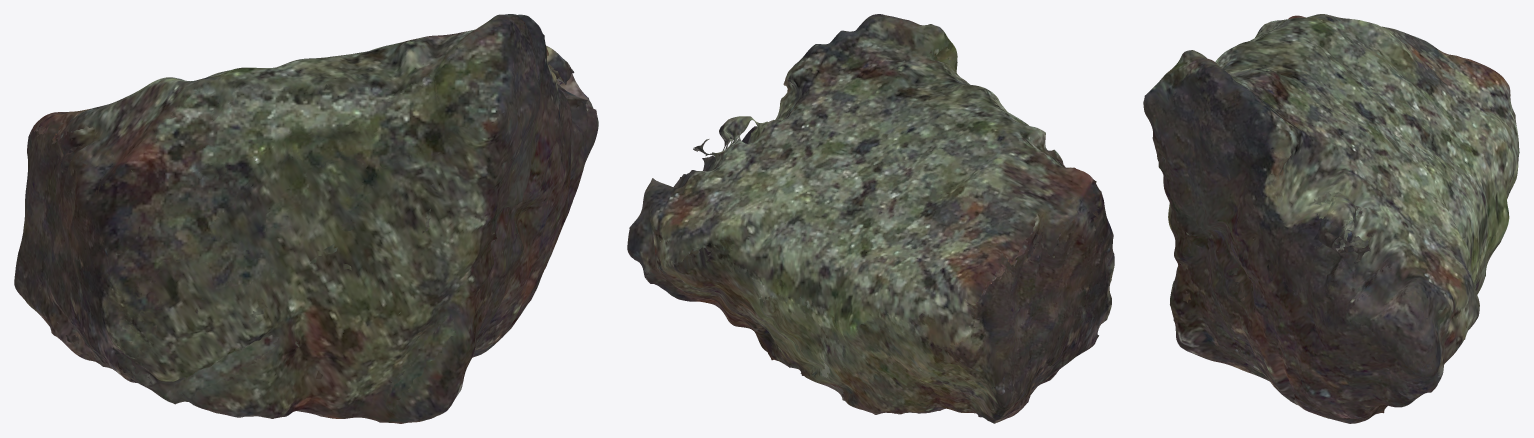
File: dunite.glb
The picture shows the model from 3 angles, left to right: view 1: azimuth 30°, elevation 25°; view 2: azimuth 150°, elevation 25°; view 3: azimuth 270°, elevation 25°; orthographic projection. The views are drawn at different scales.
Visible parts, largest first — view 1: Object_2, Object_3; view 2: Object_2, Object_3; view 3: Object_2, Object_3.
Boxes of the visible parts, box(x1,y1,x2,y2) form: Object_2: box(14, 14, 598, 423); Object_3: box(26, 101, 597, 299); Object_2: box(627, 14, 1114, 423); Object_3: box(642, 208, 1109, 347); Object_2: box(1143, 14, 1519, 423); Object_3: box(1171, 152, 1519, 339).
Size of the model in its own units: 74.61 by 49.99 by 51.44.
Materials: 1 (1 with a texture image).
